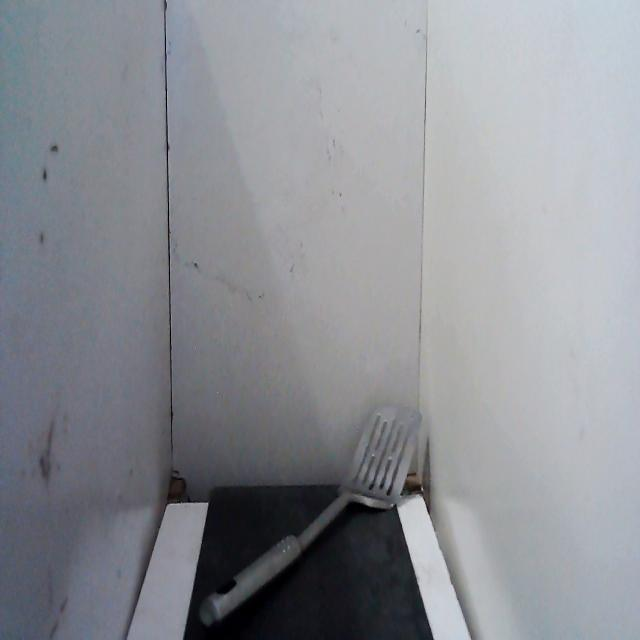metal: (195, 394, 425, 634)
